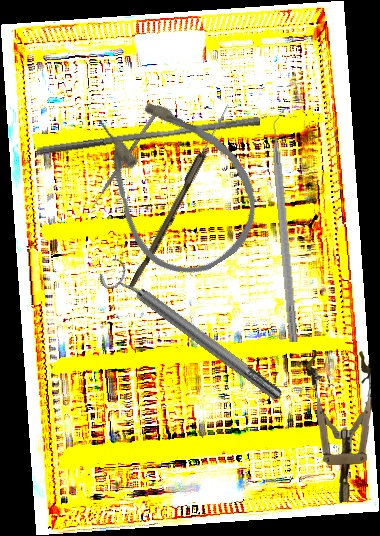Cannula: (70, 69, 280, 295)
Chopper: (268, 108, 311, 343)
Fixation Ring: (94, 252, 290, 413)
Pusher: (36, 108, 261, 165), (85, 105, 162, 217)
Speculum: (305, 348, 376, 504)
Surgical Spoon: (128, 102, 232, 292)
